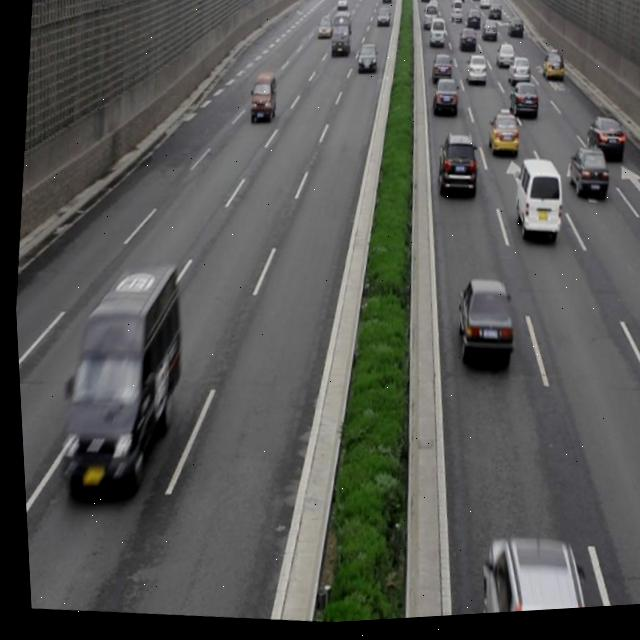car: (467, 533, 588, 619), (447, 278, 515, 376), (429, 135, 478, 207), (563, 155, 605, 207), (581, 123, 624, 170), (483, 114, 518, 163), (428, 80, 457, 123), (506, 88, 537, 125), (462, 61, 485, 91), (639, 276, 640, 369)
truck: (46, 260, 191, 497), (506, 162, 564, 247), (244, 72, 280, 131)
